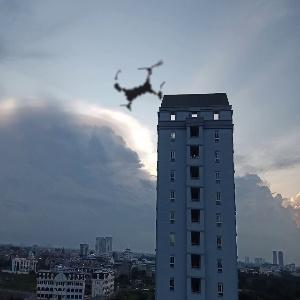drone: (91, 37, 190, 136)
